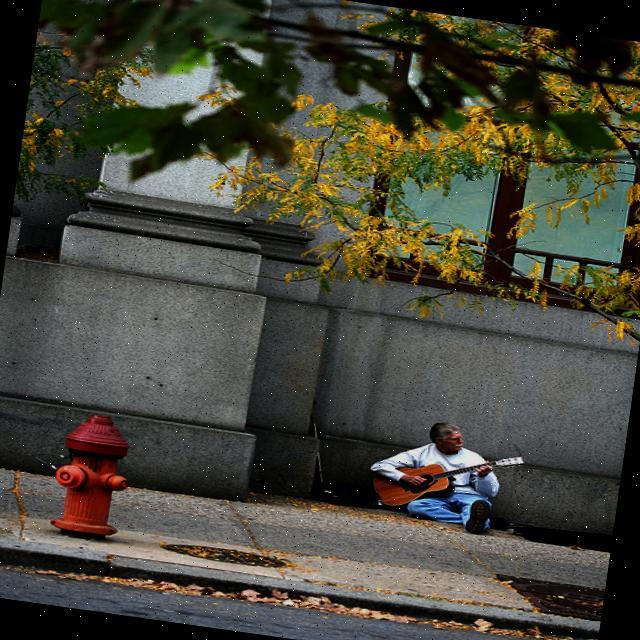fire_hydrant: (45, 411, 138, 542)
